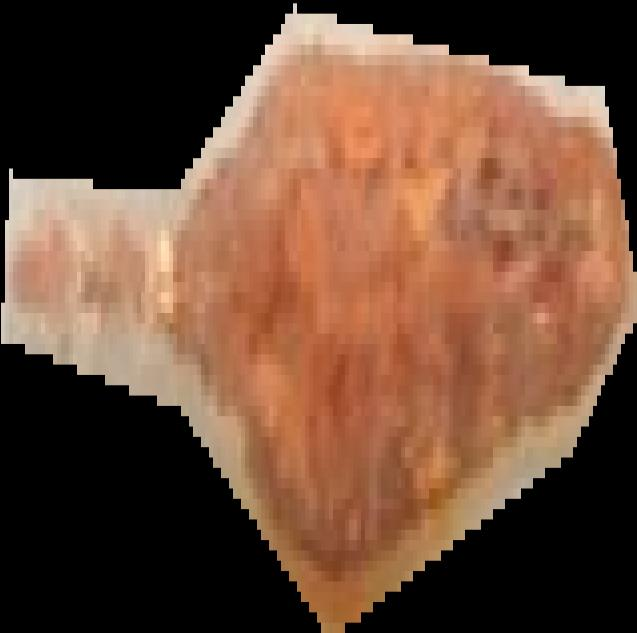Uniform Corrosion: (1, 0, 637, 633)
